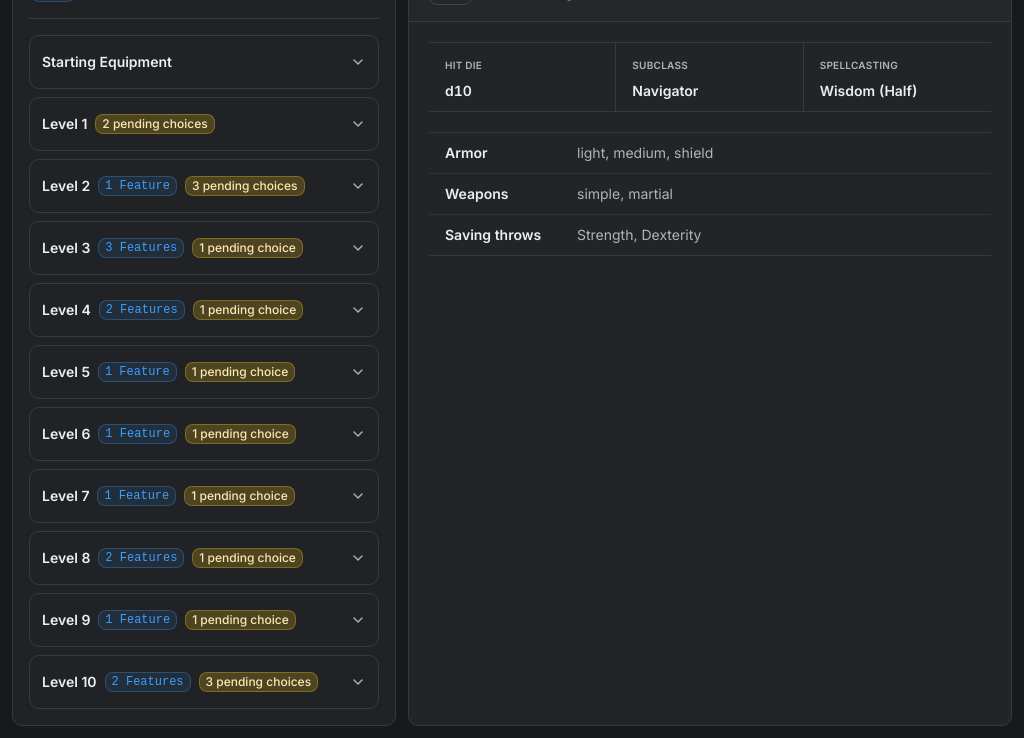
it: independent same-name subclass setup and unsupported diagnostic remain outside class-owned tabs
The width and height of the screenshot is (1024, 738).
(page scrolled)
Click the button with aria-label "Level 10," at coordinates (204, 682), box [30,656,378,708]
(page scrolled)
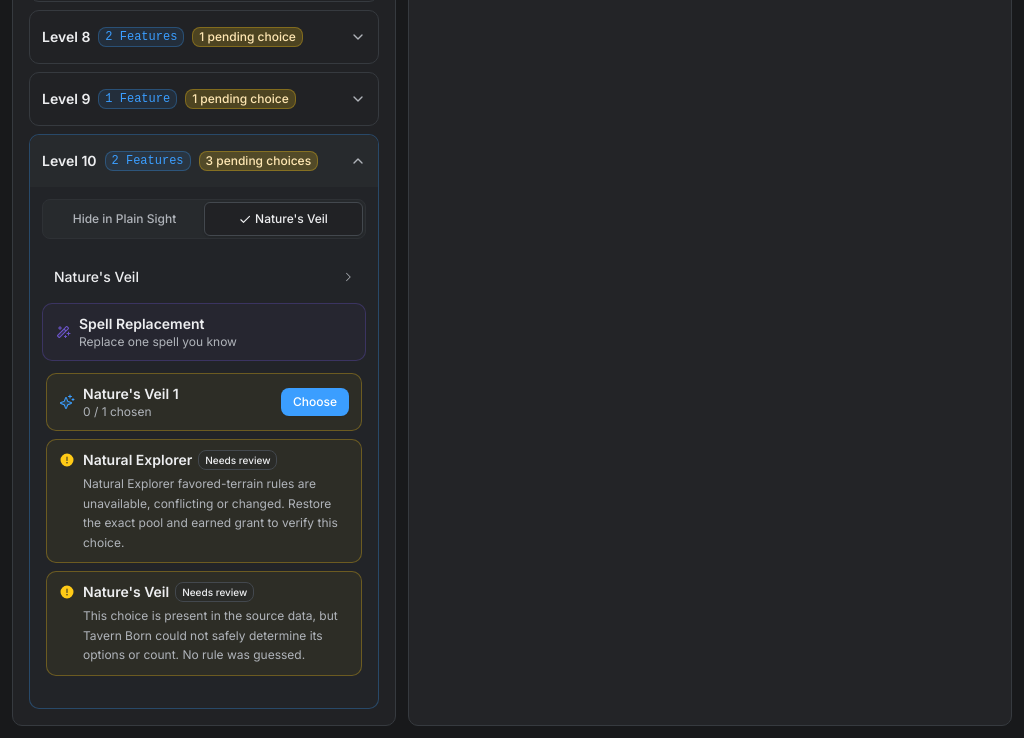
Check: the button "Choose" is shown, box [281,388,349,416]
